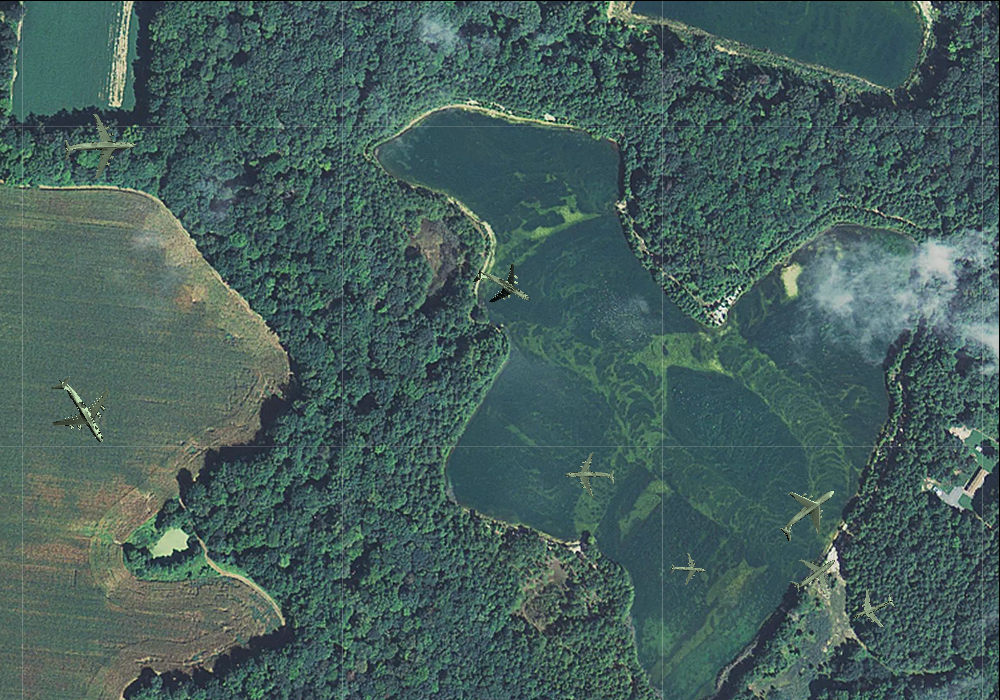plane: (30, 360, 131, 462), (763, 469, 853, 557), (463, 248, 541, 324), (61, 111, 136, 182), (781, 541, 848, 607), (844, 581, 901, 636), (564, 451, 615, 500), (669, 551, 707, 588)
